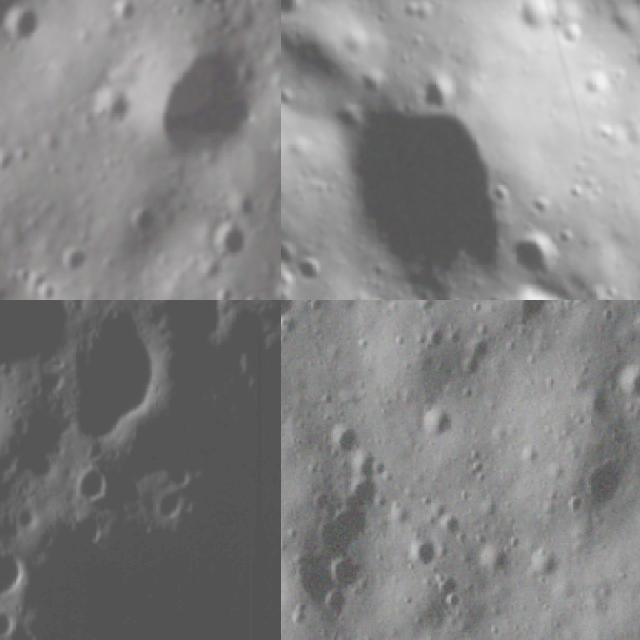crater: (318, 64, 519, 300), (136, 40, 263, 168), (55, 308, 170, 442), (568, 441, 640, 530), (504, 219, 575, 288), (414, 62, 467, 118), (502, 0, 562, 49), (205, 219, 260, 263), (332, 474, 392, 508), (294, 248, 334, 298), (4, 8, 41, 60), (71, 462, 114, 504), (415, 410, 460, 450), (122, 202, 158, 246), (95, 91, 132, 129), (324, 550, 362, 587), (407, 531, 441, 572), (317, 588, 352, 626), (610, 363, 640, 406), (0, 555, 31, 596), (328, 423, 362, 460), (57, 244, 93, 276), (513, 300, 551, 329), (24, 441, 52, 480), (147, 496, 189, 521), (281, 0, 316, 24), (162, 464, 199, 485), (0, 608, 23, 640), (196, 0, 233, 19), (16, 507, 39, 530), (30, 284, 61, 300), (269, 265, 281, 300), (276, 316, 281, 341)
